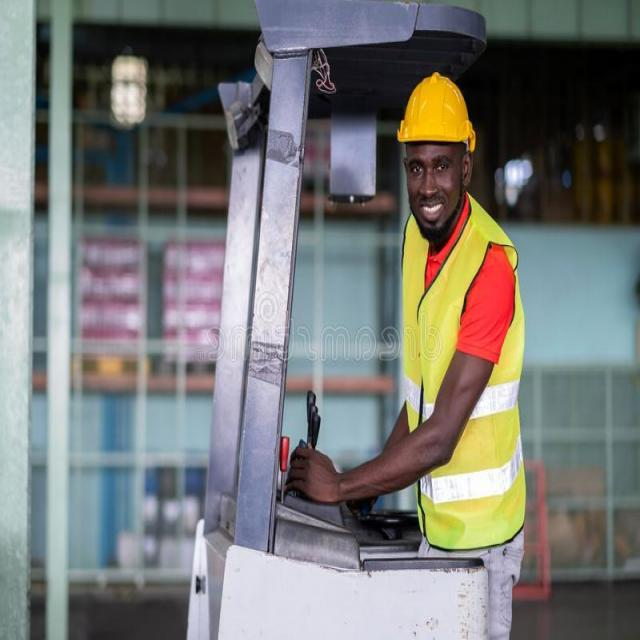Reflective-Jacket: (394, 201, 529, 554)
Safety-Helmet: (396, 67, 478, 154)
